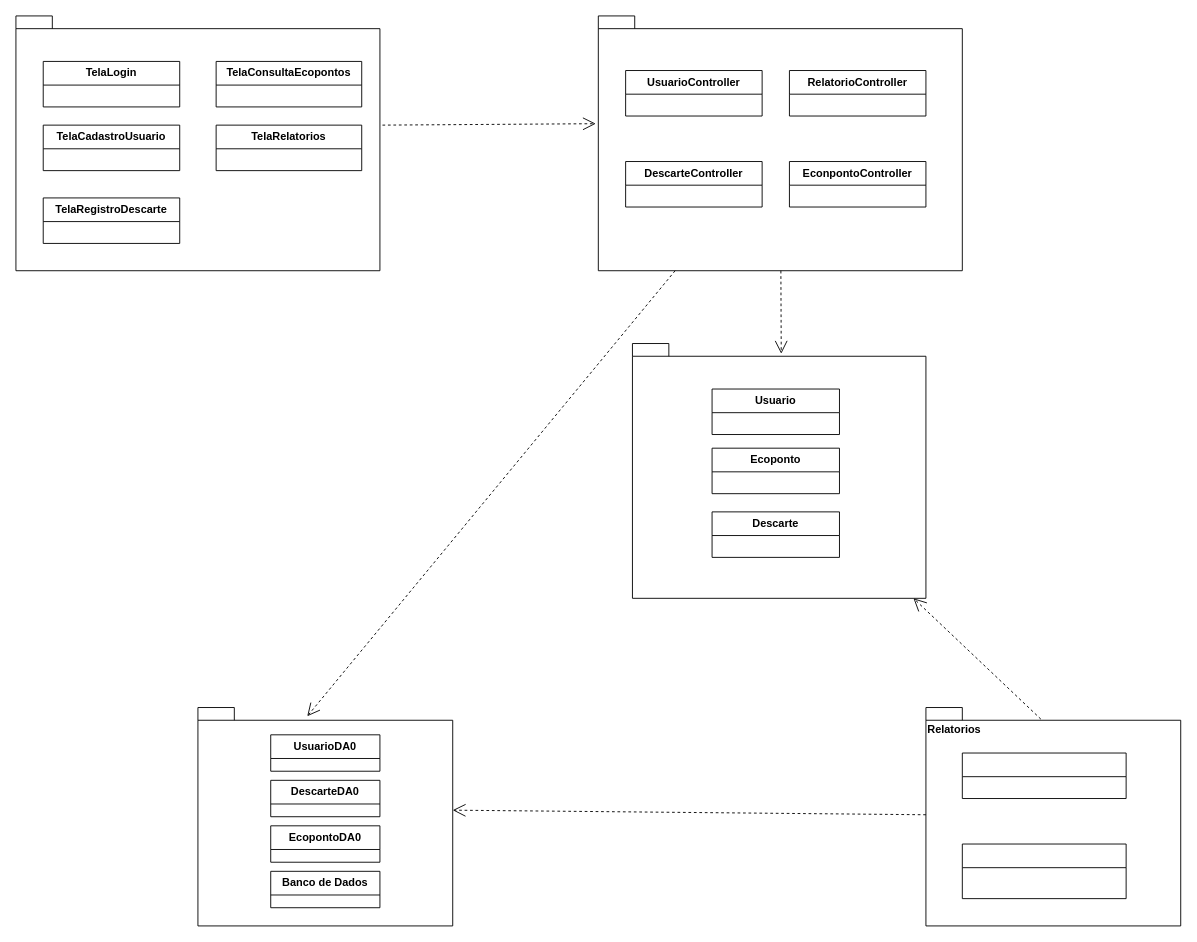
Image size: 1197x942. Some labels were removed from this diagram. The shapes that lost their labels are listed below. From the top down, each one's box as (x1, y1, x2, y2) in pixels, then its label:
(15, 15, 380, 271): Apresentação
(597, 15, 962, 271): Controle
(632, 343, 926, 598): Modelo
(961, 752, 1126, 799): RelatorioAmbiental
(197, 707, 453, 926): Persistência
(961, 843, 1126, 899): IndicadorSustentabilidade
